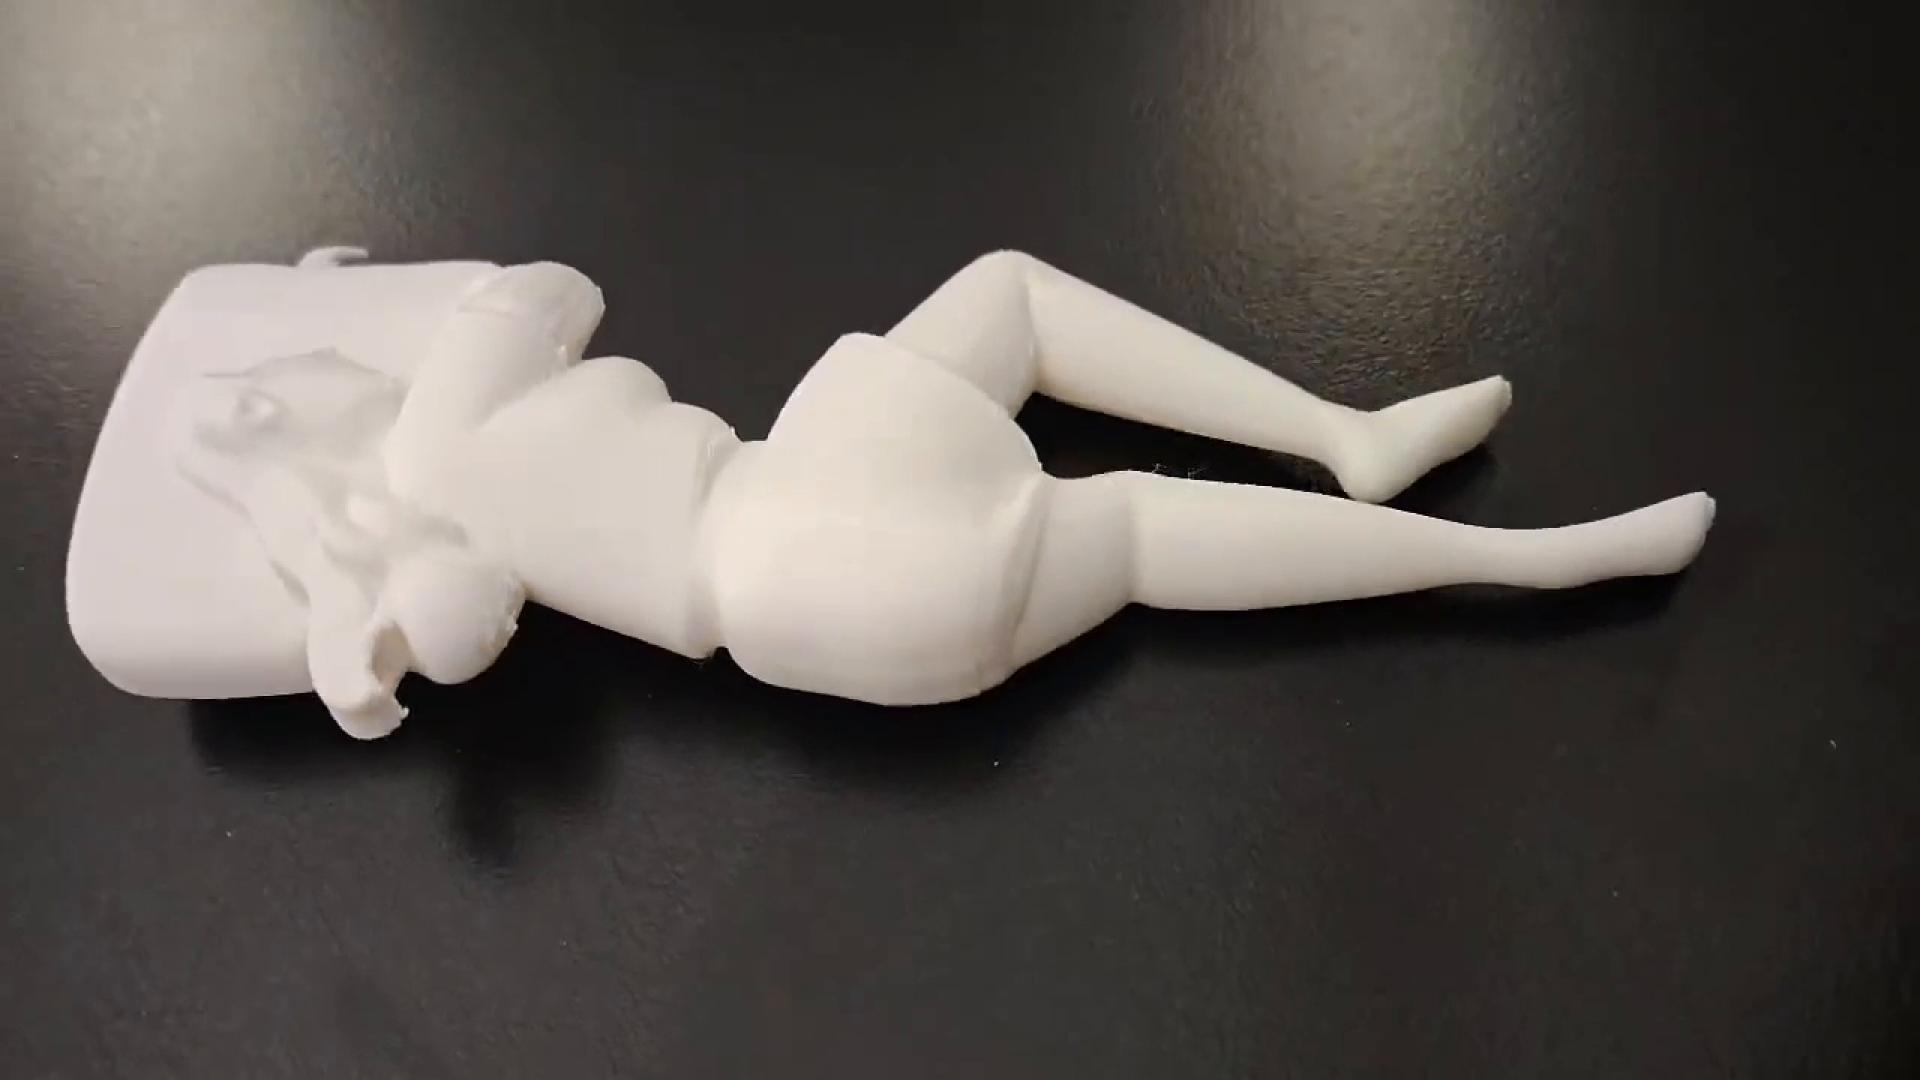Good-style: (57, 228, 1726, 762)
